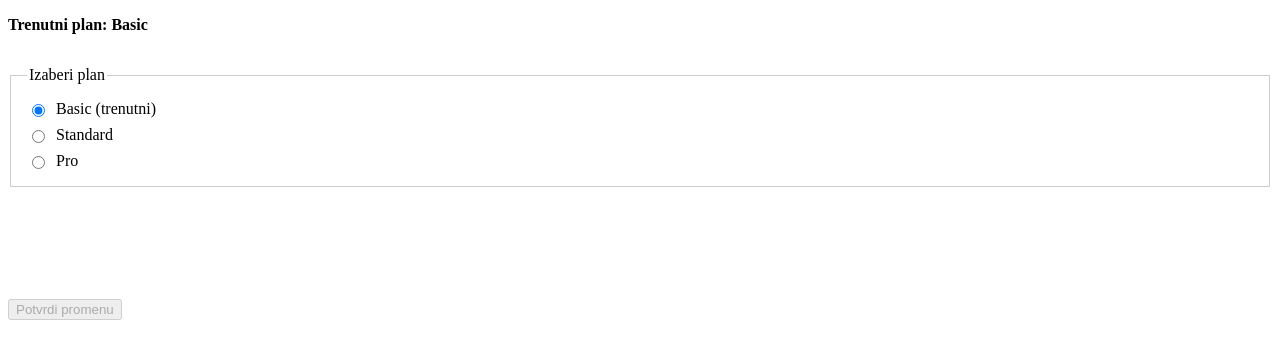
it: PlanChangePage › preview failure can be retried
The width and height of the screenshot is (1280, 337).
Later steps or results of the test are not shown.
Expected: the text "Trenutni plan: Basic" is shown, x1=8 y1=16 x2=148 y2=33
Click the radio button labelled "Pro" at (38, 162), box x1=32 y1=156 x2=45 y2=169
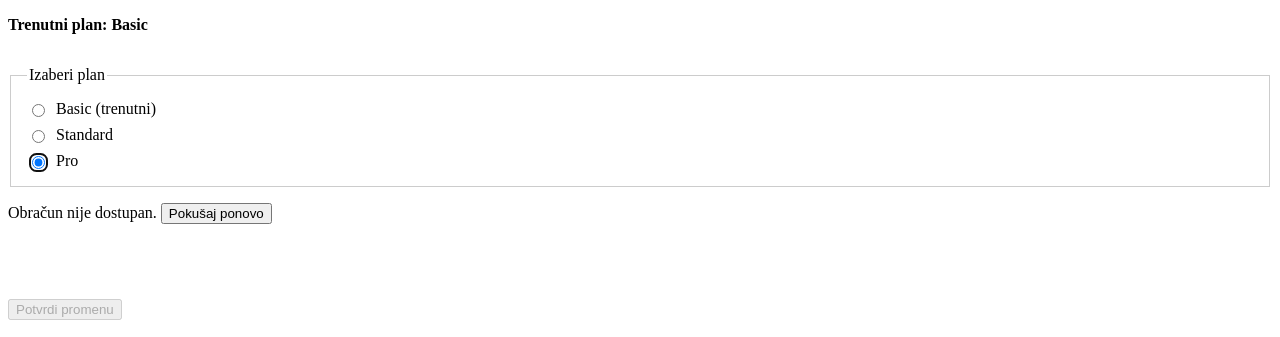
Result: the message shows "Obračun nije dostupan." at x1=8 y1=204 x2=157 y2=221
